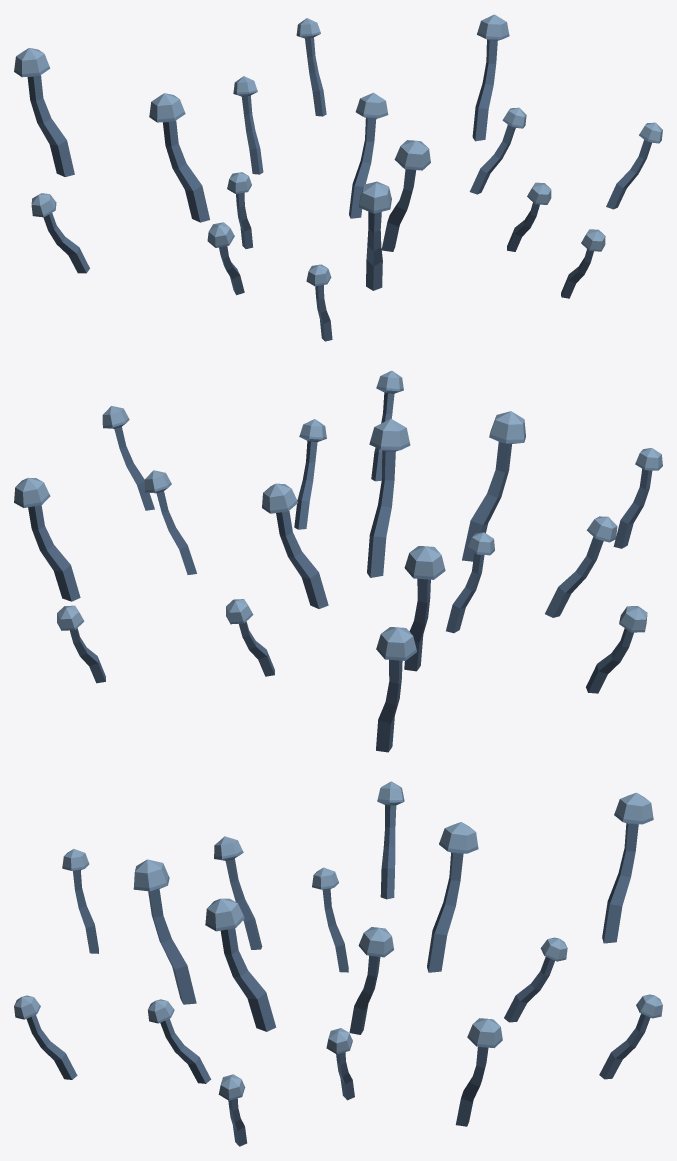
File: SM_Prop_Mushroom_Sparse_01.fbx
3 views of the same model, one above another, from view 1: azimuth 30°, elevation 25°; view 2: azimuth 150°, elevation 25°; view 3: azimuth 270°, elevation 25° (orthographic). The views are drawn at different scales.
Parts seen in each view (by area): view 1: SM_Prop_Mushroom_Sparse_01; view 2: SM_Prop_Mushroom_Sparse_01; view 3: SM_Prop_Mushroom_Sparse_01.
Boxes of the visible parts, box(x1,y1,x2,y2) form: SM_Prop_Mushroom_Sparse_01: box(14, 14, 662, 341); SM_Prop_Mushroom_Sparse_01: box(14, 370, 662, 752); SM_Prop_Mushroom_Sparse_01: box(14, 781, 662, 1146).
Size of the model in its own units: 119 by 25.99 by 110.
Materials: 1 (1 with a texture image).
